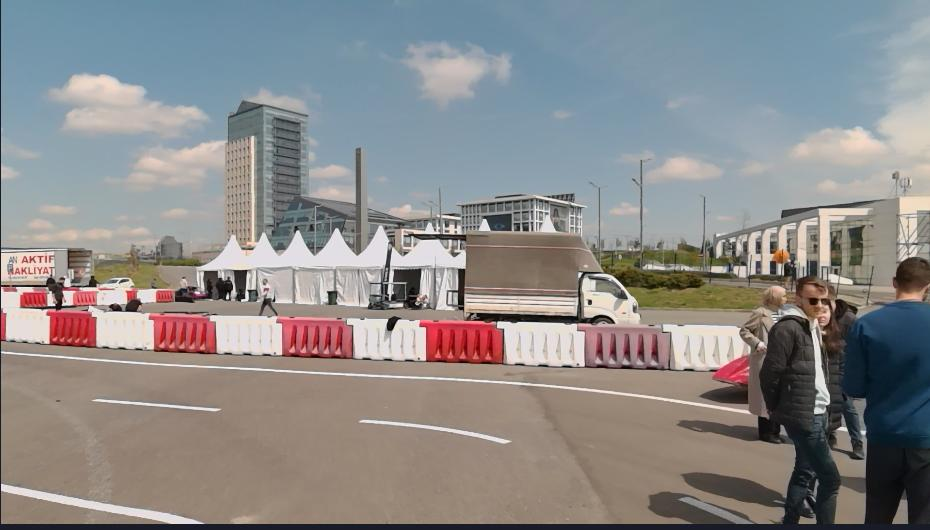nesne: (0, 342, 795, 525), (0, 346, 795, 525), (0, 378, 796, 527), (0, 349, 744, 415), (0, 309, 750, 369), (844, 256, 929, 528), (758, 277, 842, 525), (409, 232, 636, 321), (1, 483, 203, 527), (817, 307, 866, 458), (742, 283, 788, 442), (355, 417, 509, 448), (586, 320, 671, 368), (668, 323, 751, 371), (501, 322, 586, 366), (1, 249, 93, 289), (351, 319, 426, 362), (424, 320, 502, 361), (278, 316, 351, 359), (215, 316, 282, 356), (368, 241, 406, 308), (94, 311, 154, 351), (154, 314, 216, 352), (826, 279, 860, 347), (89, 396, 223, 413), (49, 311, 96, 347), (5, 308, 51, 343), (714, 352, 749, 385), (175, 273, 206, 300), (258, 277, 279, 316), (407, 282, 432, 311), (50, 275, 66, 308), (101, 275, 133, 288), (384, 312, 403, 332), (98, 290, 125, 304), (20, 292, 46, 306), (0, 292, 21, 308), (77, 290, 98, 306), (137, 289, 157, 302), (178, 274, 188, 299), (223, 273, 232, 300), (215, 276, 225, 300), (445, 289, 459, 306), (156, 289, 174, 300), (125, 301, 142, 311), (61, 292, 74, 305), (325, 289, 336, 304), (0, 309, 5, 342), (44, 274, 55, 288), (248, 289, 258, 303), (89, 272, 98, 287), (108, 301, 123, 310), (206, 276, 212, 298), (236, 288, 244, 302), (127, 290, 136, 301)
